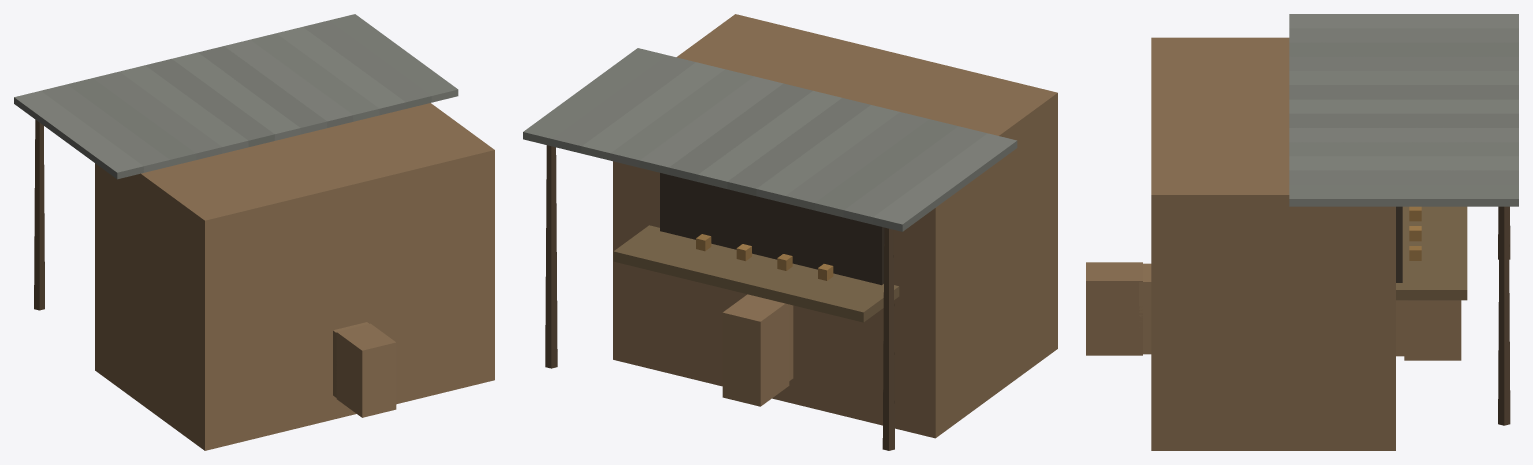
File: kit.glb
The picture shows the model from 3 angles, left to right: view 1: azimuth 30°, elevation 25°; view 2: azimuth 150°, elevation 25°; view 3: azimuth 270°, elevation 25°; orthographic projection. The views are drawn at different scales.
Visible parts, largest first — view 1: TeaStall, Wall; view 2: TeaStall, Wall; view 3: TeaStall, Wall.
Boxes of the visible parts, <box> form: TeaStall: <box>14,14,494,450</box>; Wall: <box>333,322,396,417</box>; TeaStall: <box>523,14,1057,450</box>; Wall: <box>722,294,793,406</box>; TeaStall: <box>1151,14,1518,450</box>; Wall: <box>1086,262,1461,360</box>.
Size of the model in its own units: 4.3 by 2.87 by 4.25.
